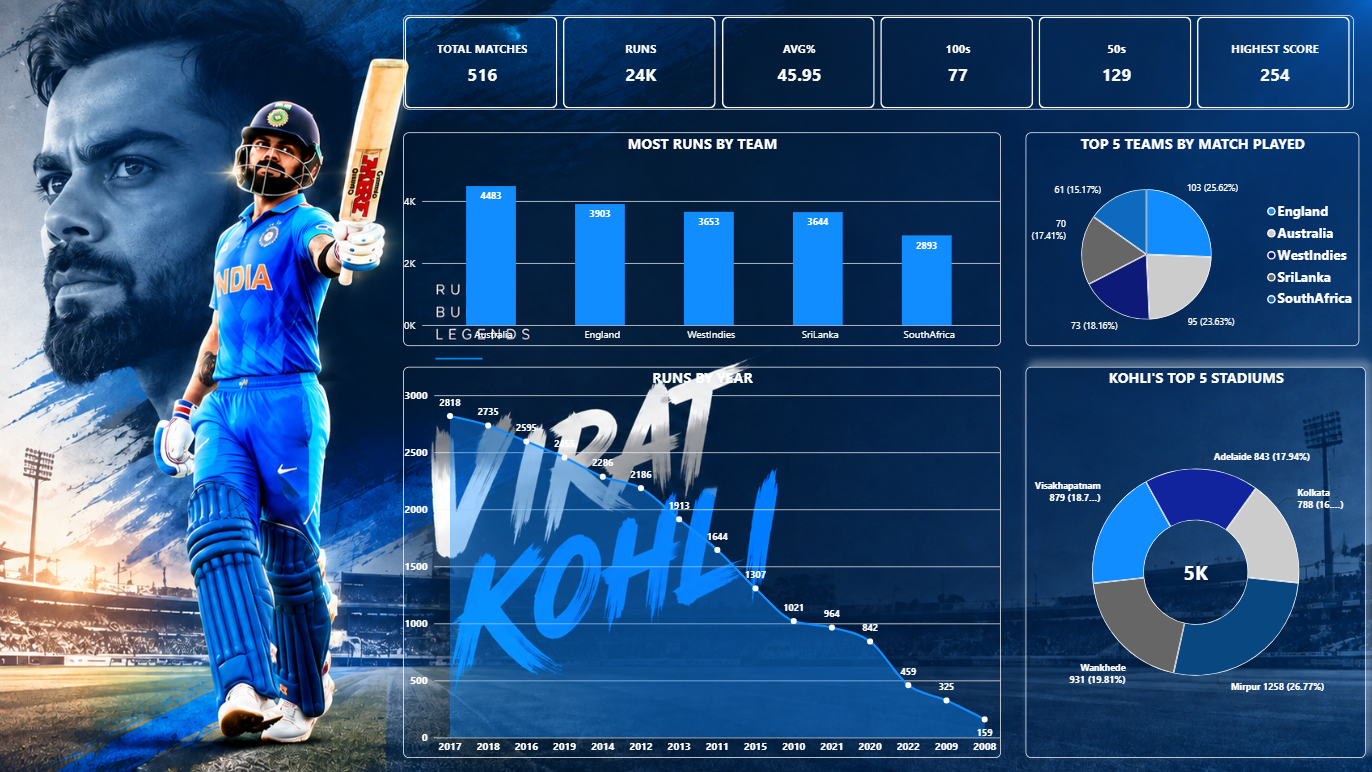

Layout of this report page (visuals, bound fields, positions):
{"tool":"powerbi","page":{"name":"Page 1","canvas":[1920,1080],"ordinal":0},"visuals":[{"type":"cardVisual","fields":{"Data":["Measures_Table.Total_Matches","Measures_Table.Runs","Measures_Table.Avg%","Measures_Table.100s","Measures_Table.50s","Measures_Table.HighestScore"]},"box":[564.7,21.6,1324.8,132.1],"z":0},{"type":"clusteredColumnChart","title":"MOST RUNS BY TEAM ","fields":{"Category":["Virat_Kohli.opponent"],"Y":["Sum(Virat_Kohli.runs)"]},"box":[564.7,184.6,832.9,297.8],"z":1000},{"type":"donutChart","title":"TOP 5 TEAMS BY MATCH PLAYED","fields":{"Category":["Virat_Kohli.opponent"],"Y":["Measures_Table.Total_Matches"]},"box":[1432.6,184.6,465,297.8],"z":2000},{"type":"areaChart","title":"RUNS BY YEAR ","fields":{"Category":["Calender.year"],"Y":["Measures_Table.Runs"]},"box":[564.7,510.8,832.9,545.8],"z":3000},{"type":"donutChart","title":"KOHLI''S TOP 5 STADIUMS","fields":{"Category":["Virat_Kohli.ground"],"Y":["Measures_Table.Runs"]},"box":[1432.6,510.8,474.4,545.8],"z":4000}]}

Visuals, with their boxes in screenshot pixels (x1, y1, x2, y2), scaled from the page's 1920x1080 canvas onto the 1372x772 screenshot:
cardVisual - Measures_Table.Total_Matches x Measures_Table.Runs: (left=404, top=15, right=1350, bottom=110)
"MOST RUNS BY TEAM " clusteredColumnChart: (left=404, top=132, right=999, bottom=345)
"TOP 5 TEAMS BY MATCH PLAYED" donutChart: (left=1024, top=132, right=1356, bottom=345)
"RUNS BY YEAR " areaChart: (left=404, top=365, right=999, bottom=755)
"KOHLI''S TOP 5 STADIUMS" donutChart: (left=1024, top=365, right=1363, bottom=755)
